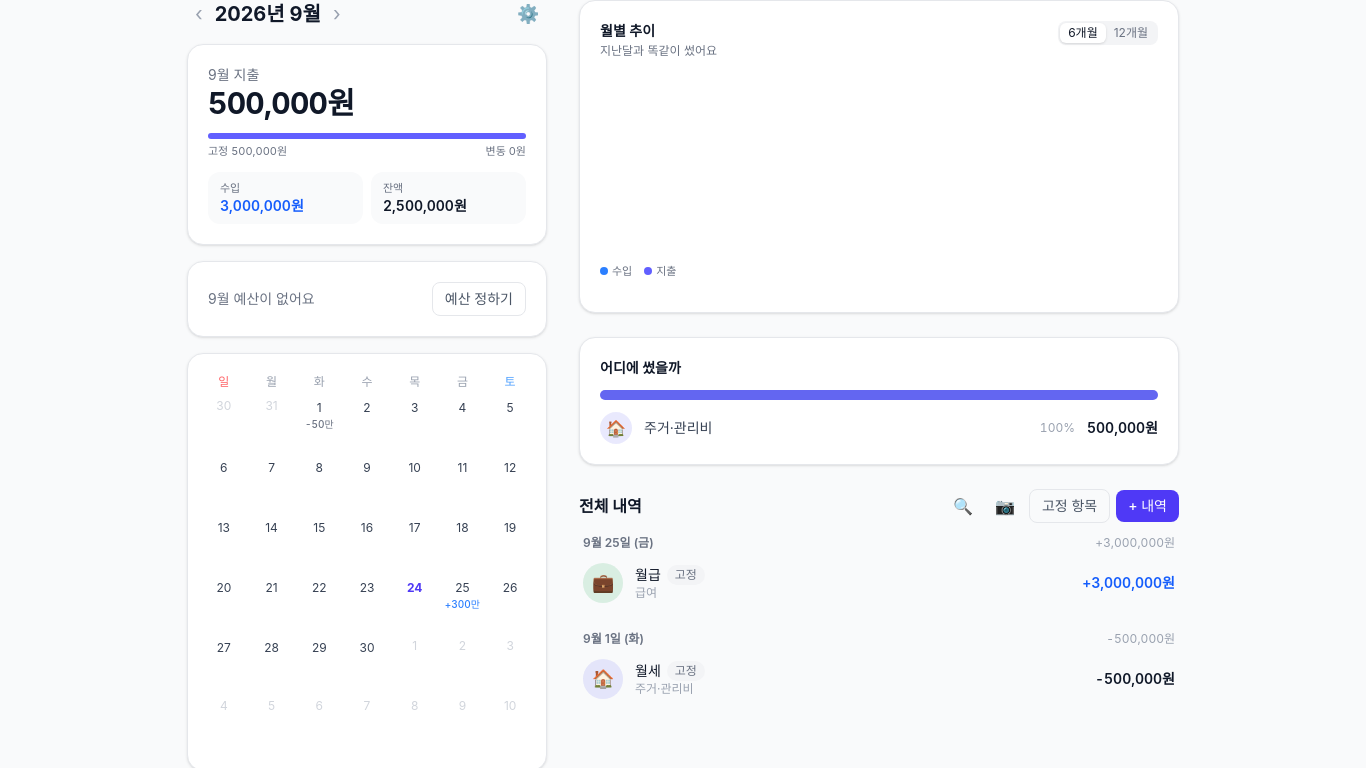
Test: LedgerPage › 고정 항목과 직접 입력한 내역을 합쳐 월 요약을 보여준다
Expected: the heading "2026년 9월" is shown, [215,0,321,28]
Click the button "+ 내역".
click(1148, 506)  # box [1116,490,1179,522]
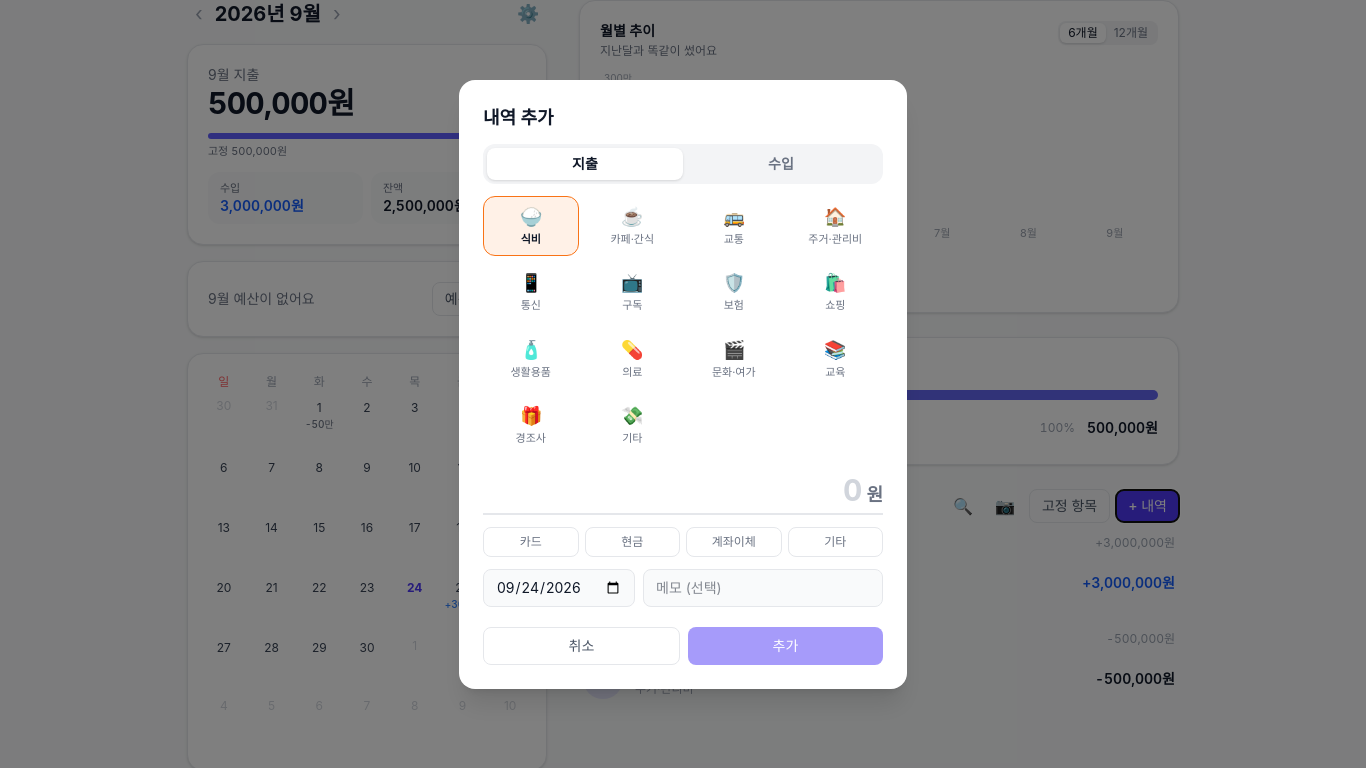
Type "12,000" into the field named "금액".
click(673, 490); type("12,000")  # box [483,472,862,508]
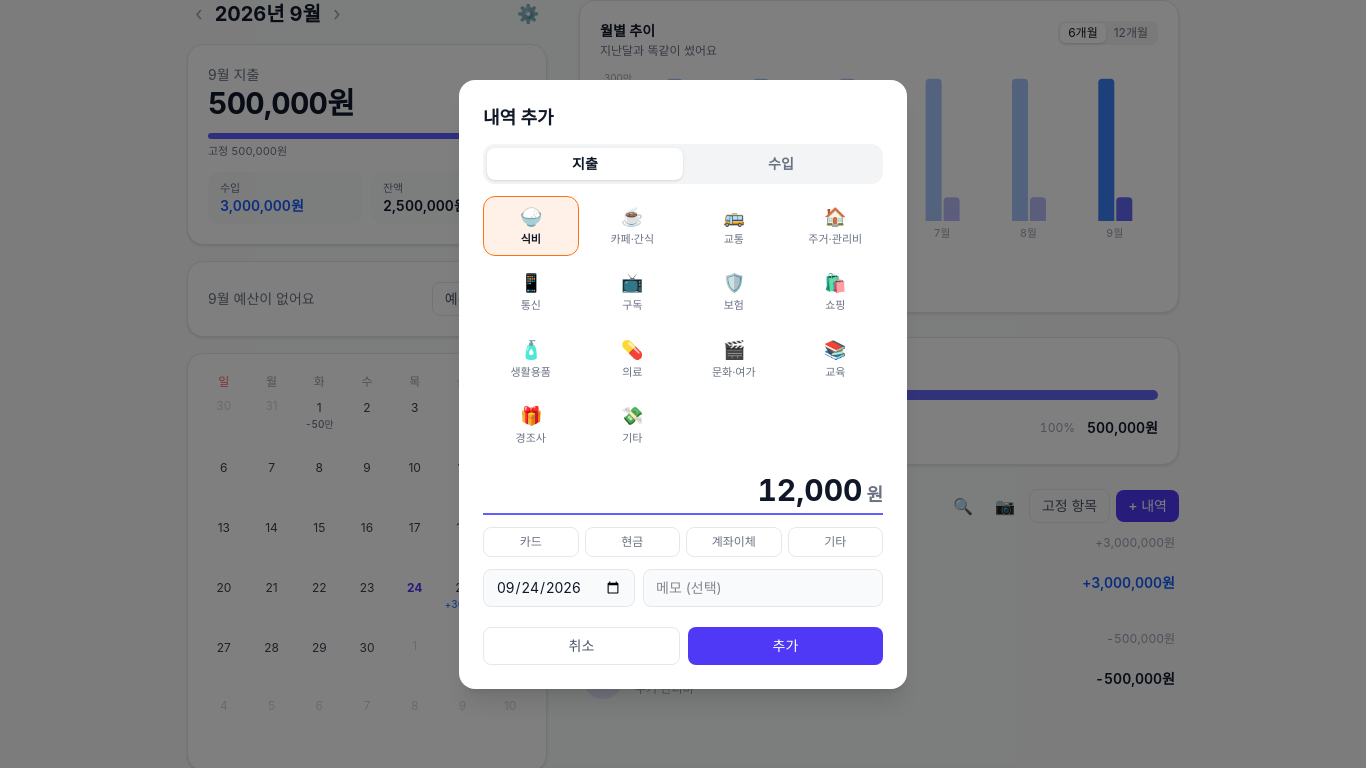
Type "점심" into the field labelled "메모".
click(763, 588); type("점심")  # box [643,568,883,606]
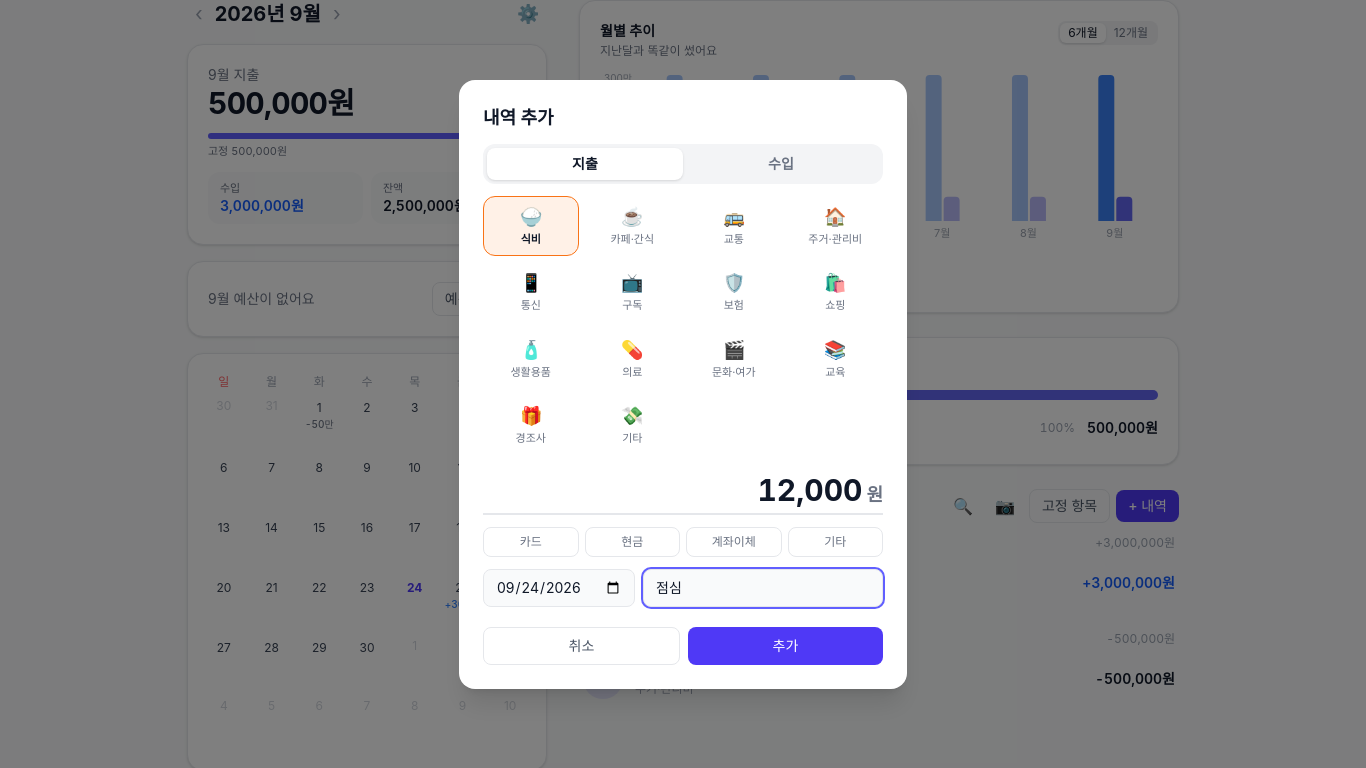
Click the button "추가".
click(786, 646)  # box [688,626,883,664]
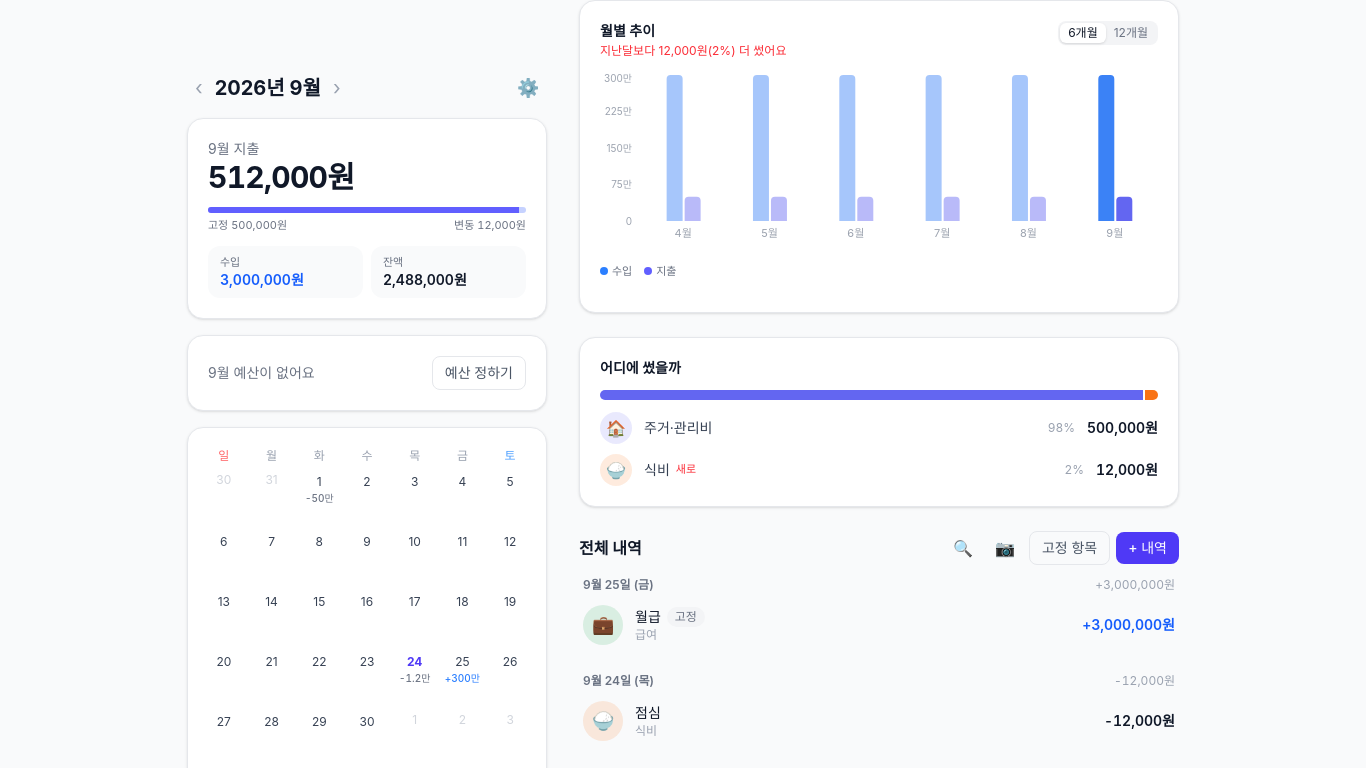
Expected: the text named "지출 합계" reads "512,000원", [208,158,354,194]
Expected: the text named "잔액" reads "2,488,000원", [383,270,467,288]
Expected: the text "고정" is shown 2 times
// 다음 달에는 9월에 끝난 월세가 빠지고 월급만 남는다.
Click the button named "다음 달".
click(337, 88)  # box [325,74,349,102]
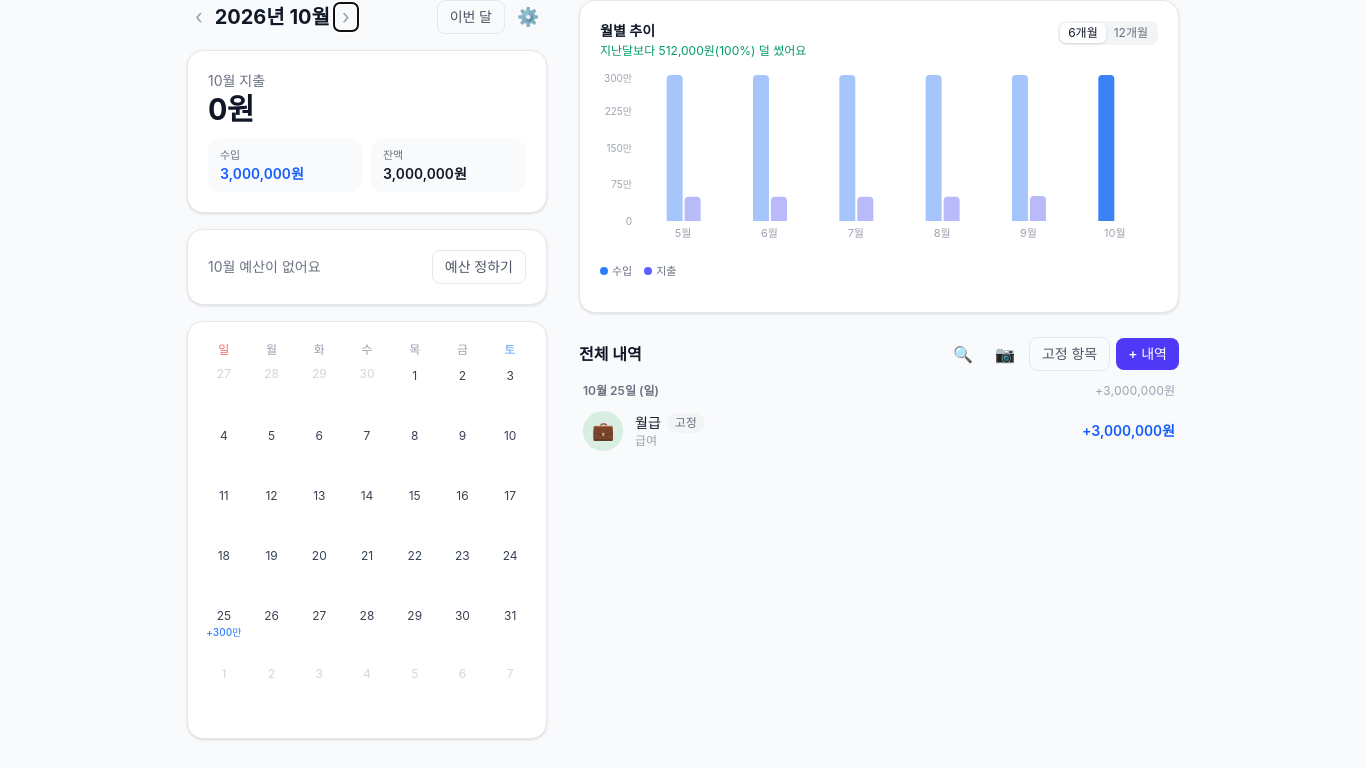
Expected: the text named "수입 합계" reads "3,000,000원", [220,164,304,182]
Expected: the heading "2026년 10월" is shown, [215,3,330,31]
